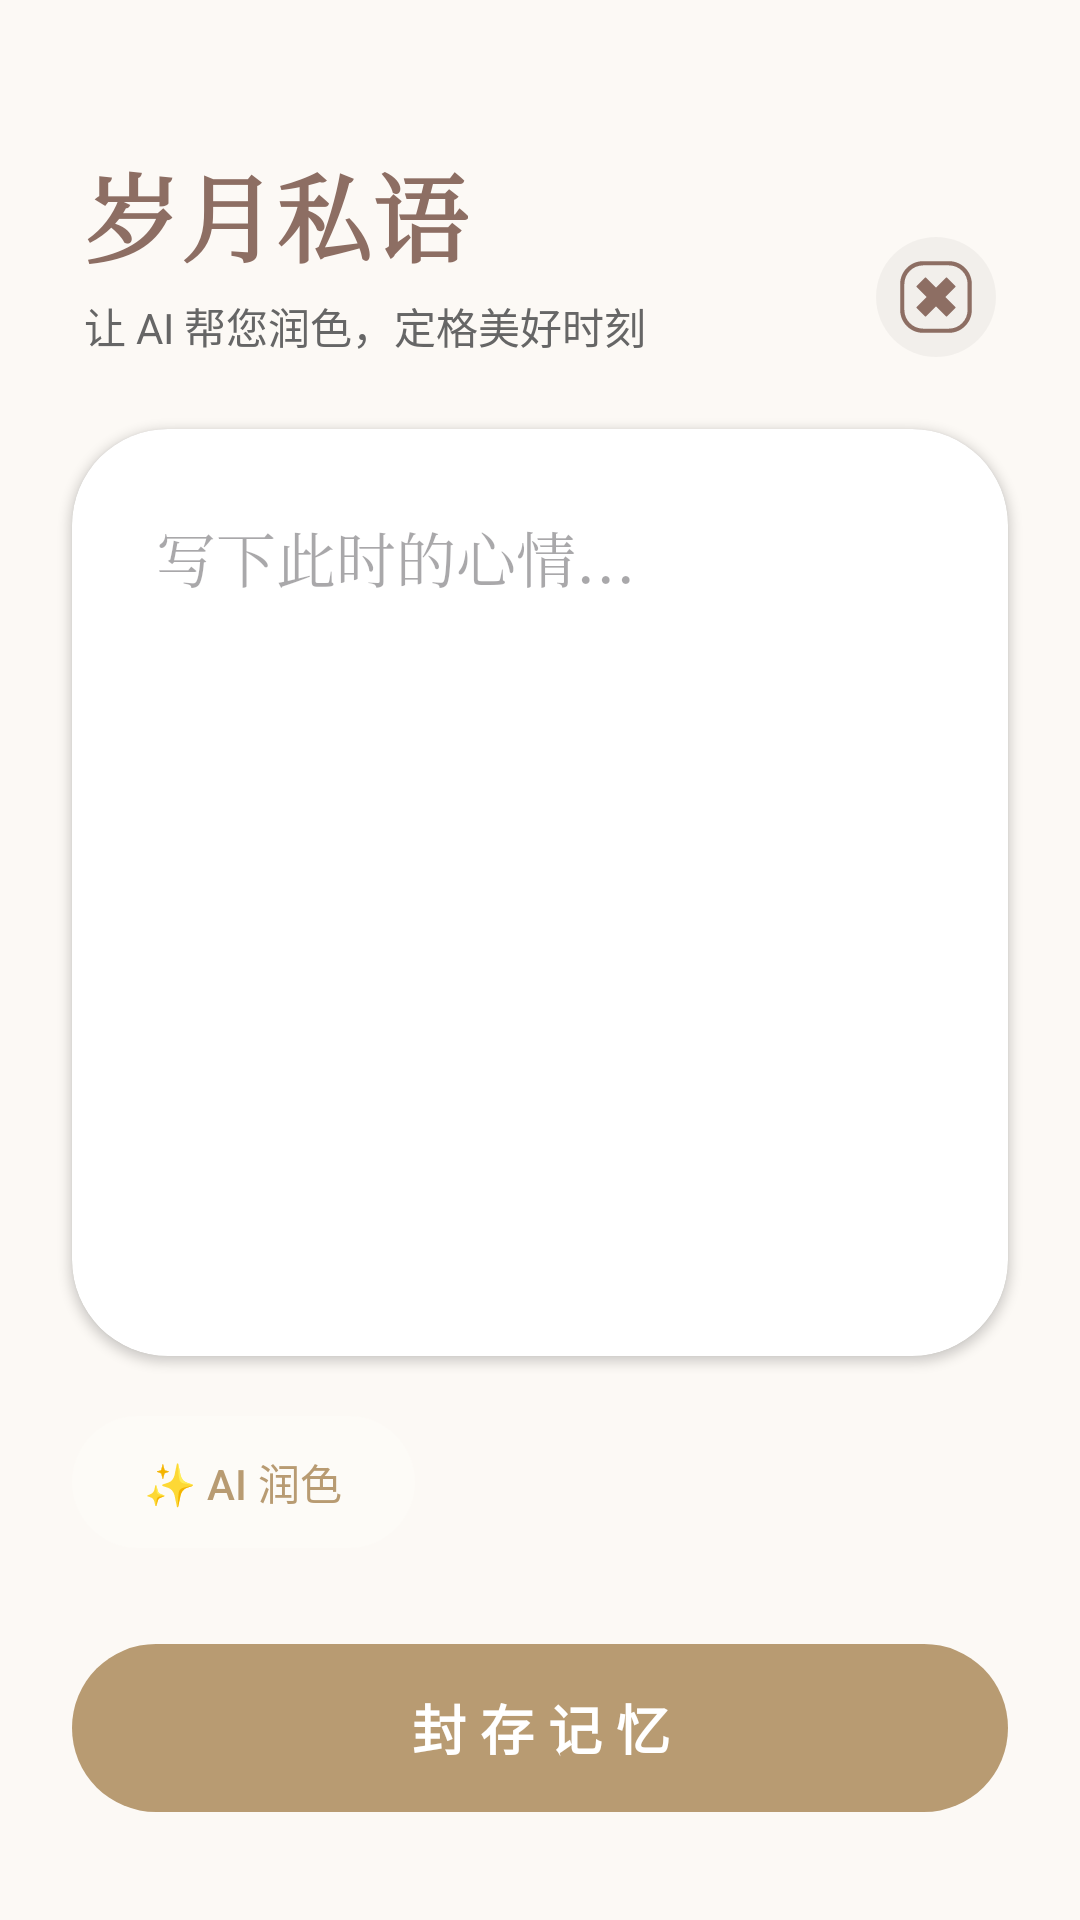

Icon click points for this 1080*1920 phone screenshot, format [x,y]:
close: [936,297]
